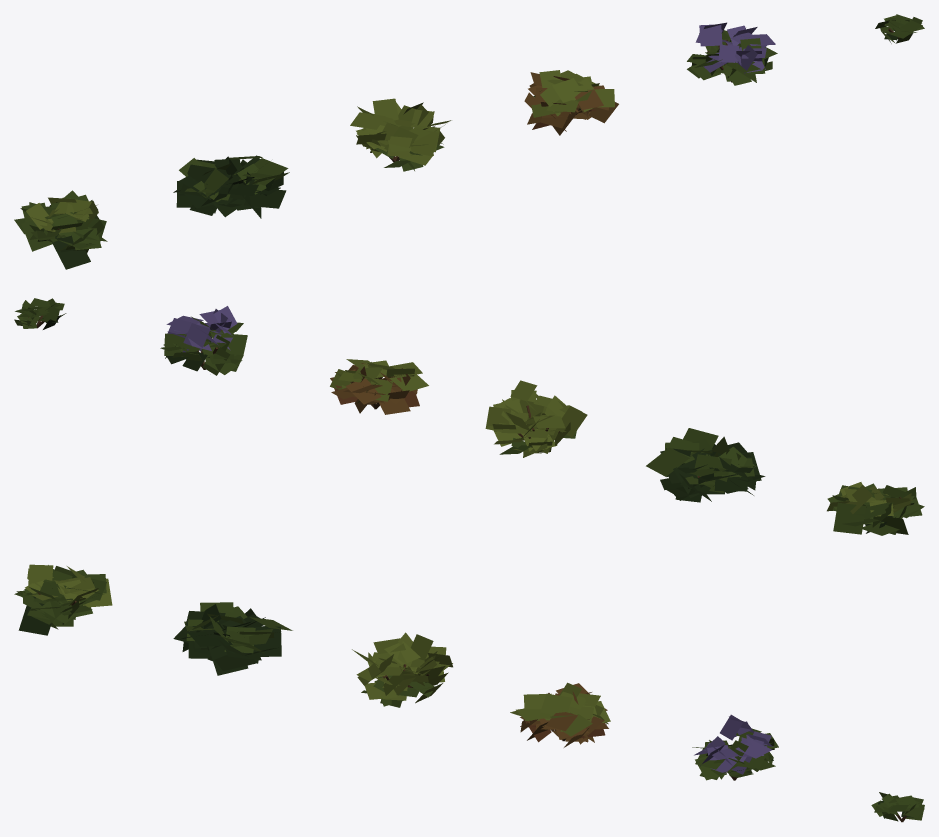
The model's file is bushes.glb.
3 renders of one model, top to bottom at view 1: azimuth 30°, elevation 25°; view 2: azimuth 150°, elevation 25°; view 3: azimuth 330°, elevation 25°, orthographic.
Visible parts, largest first — view 1: bush_dark, bush_yellow, bush_green, bush_rust, bush_flower, bush_small; view 2: bush_dark, bush_yellow, bush_flower, bush_rust, bush_green, bush_small; view 3: bush_dark, bush_yellow, bush_green, bush_rust, bush_flower, bush_small.
Part boxes in pixels (bbox=[...]): bush_dark: bbox=[173, 155, 289, 218]; bush_yellow: bbox=[350, 98, 451, 171]; bush_green: bbox=[14, 190, 107, 269]; bush_rust: bbox=[524, 70, 618, 135]; bush_flower: bbox=[687, 22, 777, 85]; bush_small: bbox=[875, 14, 924, 43]; bush_dark: bbox=[646, 428, 765, 502]; bush_yellow: bbox=[485, 380, 587, 457]; bush_flower: bbox=[160, 306, 247, 375]; bush_rust: bbox=[330, 359, 428, 414]; bush_green: bbox=[827, 482, 924, 535]; bush_small: bbox=[14, 298, 66, 329]; bush_dark: bbox=[173, 602, 292, 675]; bush_yellow: bbox=[352, 632, 452, 707]; bush_green: bbox=[14, 564, 112, 635]; bush_rust: bbox=[510, 682, 610, 747]; bush_flower: bbox=[692, 714, 778, 780]; bush_small: bbox=[871, 792, 924, 822].
Size of the model in its own units: 16.11 by 0.9 by 1.75.
